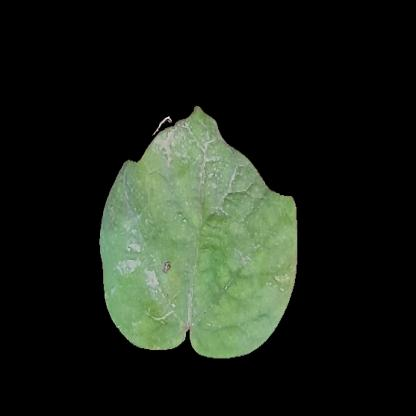curl_stage1: (165, 176, 237, 274)
